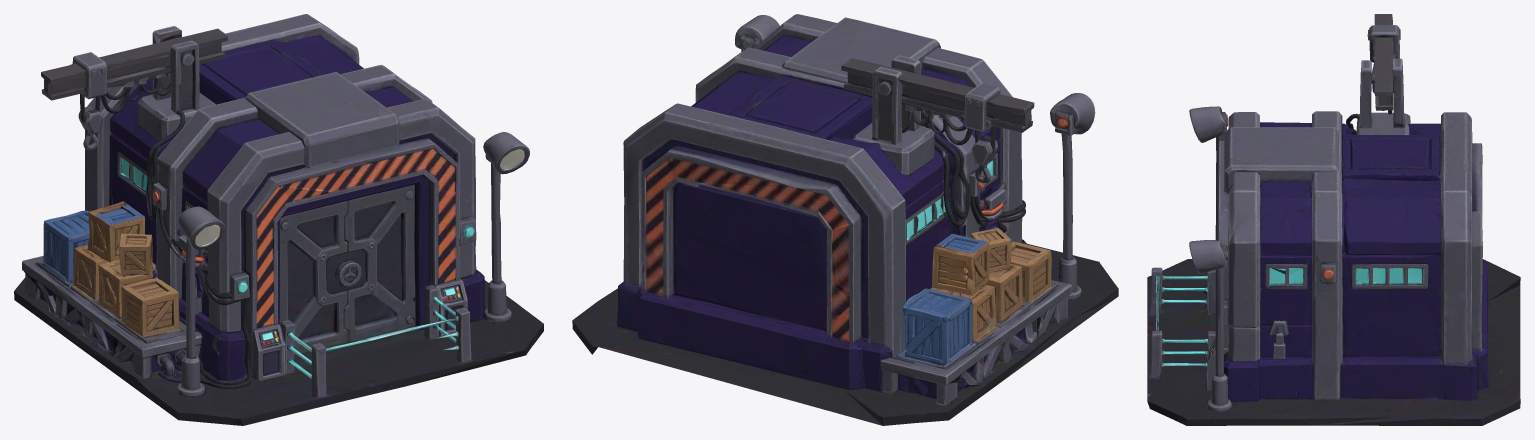
File: midnight-depot.glb
3 renders of one model, left to right at view 1: azimuth 30°, elevation 25°; view 2: azimuth 150°, elevation 25°; view 3: azimuth 270°, elevation 25°, orthographic. The views are drawn at different scales.
Visible parts, largest first — view 1: output_unwrapped; view 2: output_unwrapped; view 3: output_unwrapped.
Boxes of the visible parts, left/top/right/bottom form: output_unwrapped: left=14, top=14, right=543, bottom=425; output_unwrapped: left=572, top=14, right=1118, bottom=425; output_unwrapped: left=1147, top=14, right=1520, bottom=425.
Bounding box in the file's own units: 1.9 × 1.3 × 1.76.
Materials: 1 (1 with a texture image).
